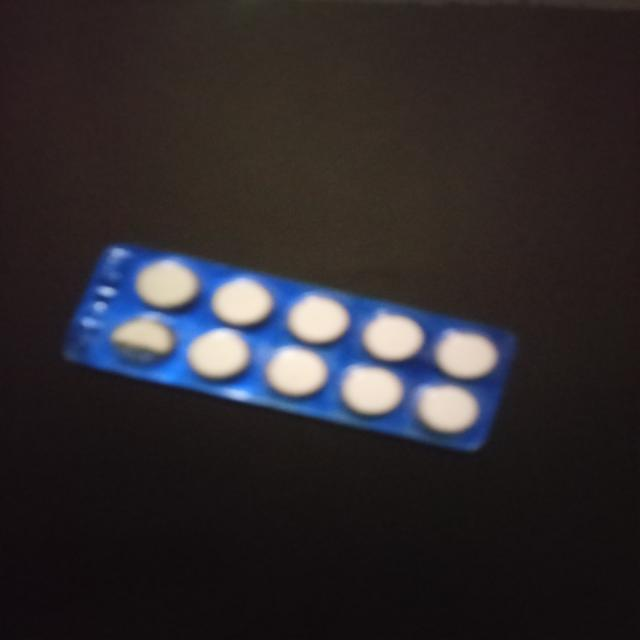defect: (109, 314, 178, 368)
